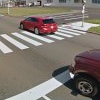crosswalk: (0, 24, 86, 54)
